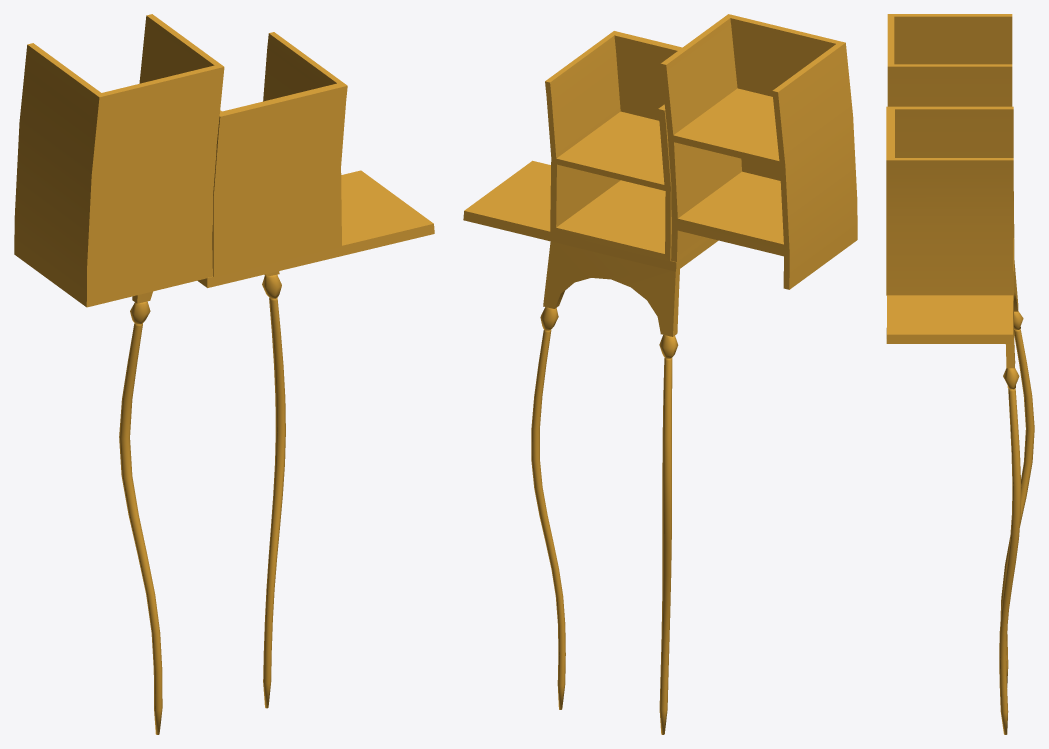
Rendered from mueble5.fbx.
The picture shows the model from 3 angles, left to right: view 1: azimuth 30°, elevation 25°; view 2: azimuth 150°, elevation 25°; view 3: azimuth 270°, elevation 25°; orthographic projection. The views are drawn at different scales.
Parts seen in each view (by area): view 1: Cube.001, Cube, Cube.002, Cylinder.002, Cylinder.001; view 2: Cube.001, Cube, Cube.002, Cylinder.007, Cylinder.002, Cylinder.001; view 3: Cube, Cube.001, Cube.002, Cylinder.001, Cylinder.002, Cylinder.007.
Boxes of the visible parts, left/top/right/bottom form: Cube.001: left=14, top=14, right=224, bottom=307; Cube: left=212, top=32, right=347, bottom=276; Cube.002: left=197, top=170, right=434, bottom=287; Cylinder.002: left=119, top=301, right=162, bottom=734; Cylinder.001: left=262, top=274, right=285, bottom=708; Cube.001: left=660, top=14, right=857, bottom=289; Cube: left=545, top=31, right=682, bottom=261; Cube.002: left=463, top=160, right=718, bottom=271; Cylinder.007: left=543, top=241, right=679, bottom=336; Cylinder.002: left=659, top=335, right=678, bottom=734; Cylinder.001: left=531, top=307, right=565, bottom=709; Cube: left=886, top=106, right=1014, bottom=295; Cube.001: left=887, top=14, right=1012, bottom=106; Cube.002: left=886, top=295, right=1013, bottom=343; Cylinder.001: left=999, top=368, right=1021, bottom=734; Cylinder.002: left=1000, top=311, right=1034, bottom=687; Cylinder.007: left=1005, top=260, right=1018, bottom=368.
Bounding box in the file's own units: 29.52 × 58.26 × 12.63.
